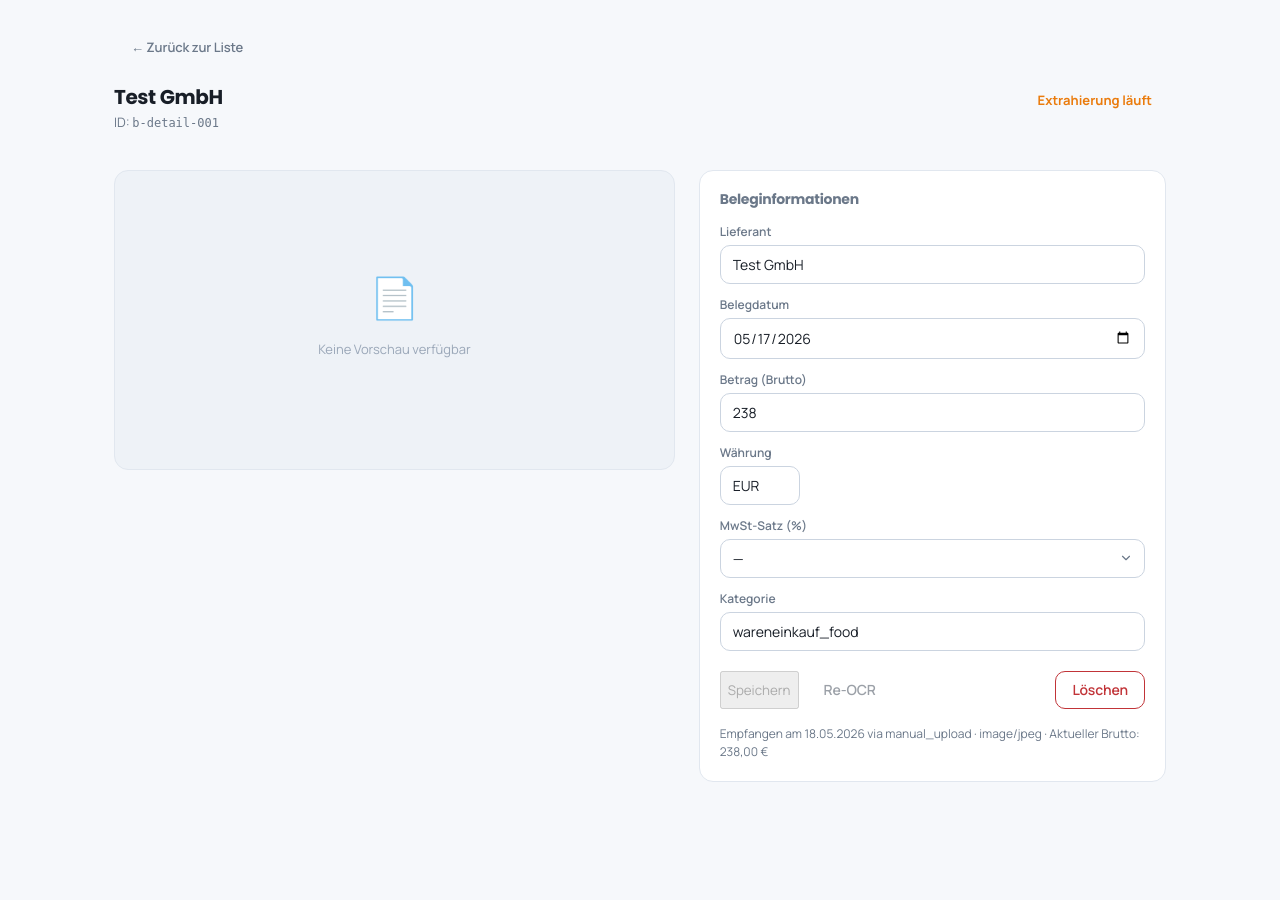
Test: BelegeDetailPage › T091: bei ungespeicherten Edits nur Status-Badge, Formular bleibt erhalten
Edit machen → isDirty.
Replace the text in the field with test id "field-supplier_name" with "Geänderter Lieferant GmbH" at (932, 264), box [720,245,1145,284]
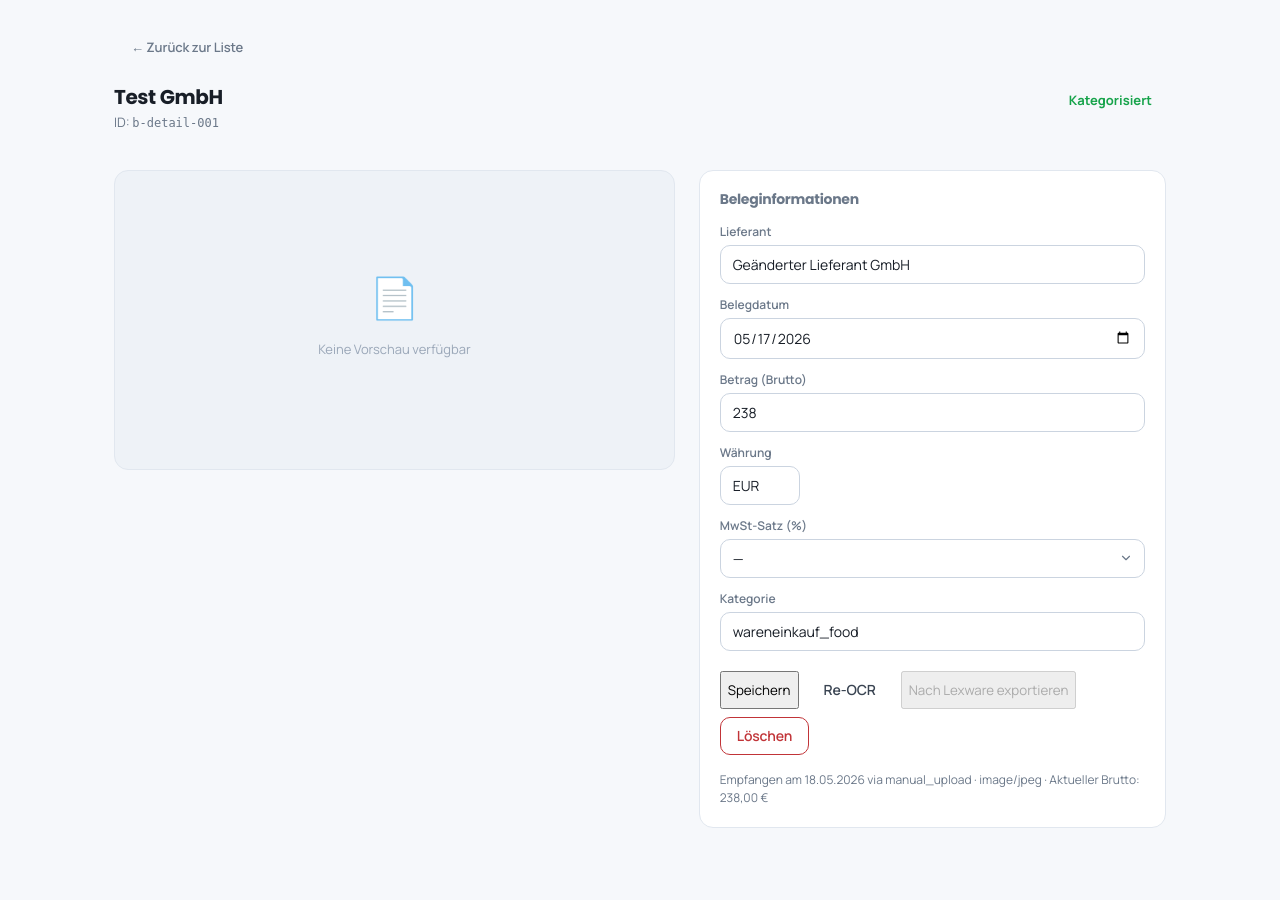
Check: the text with test id "status-badge" reads "Kategorisiert", box [1069,91,1152,109]
